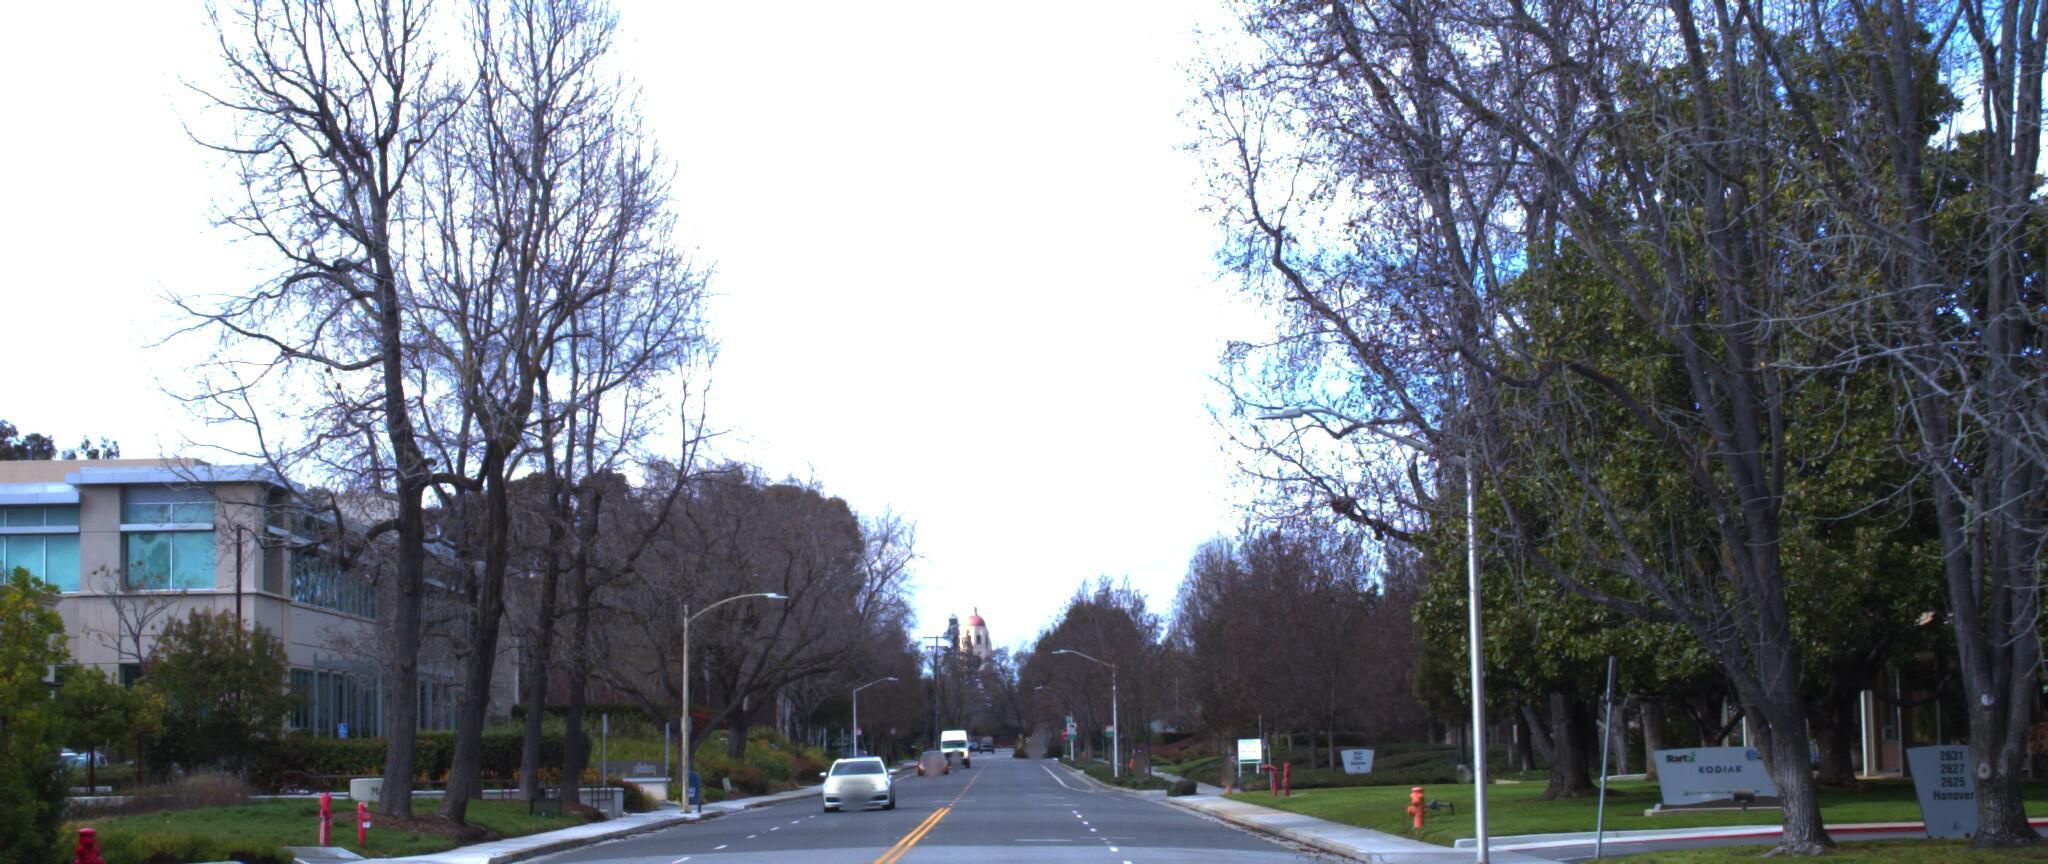car: (828, 750, 905, 810)
